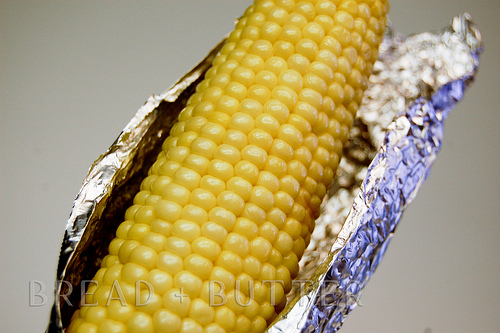corn: (67, 0, 388, 332)
